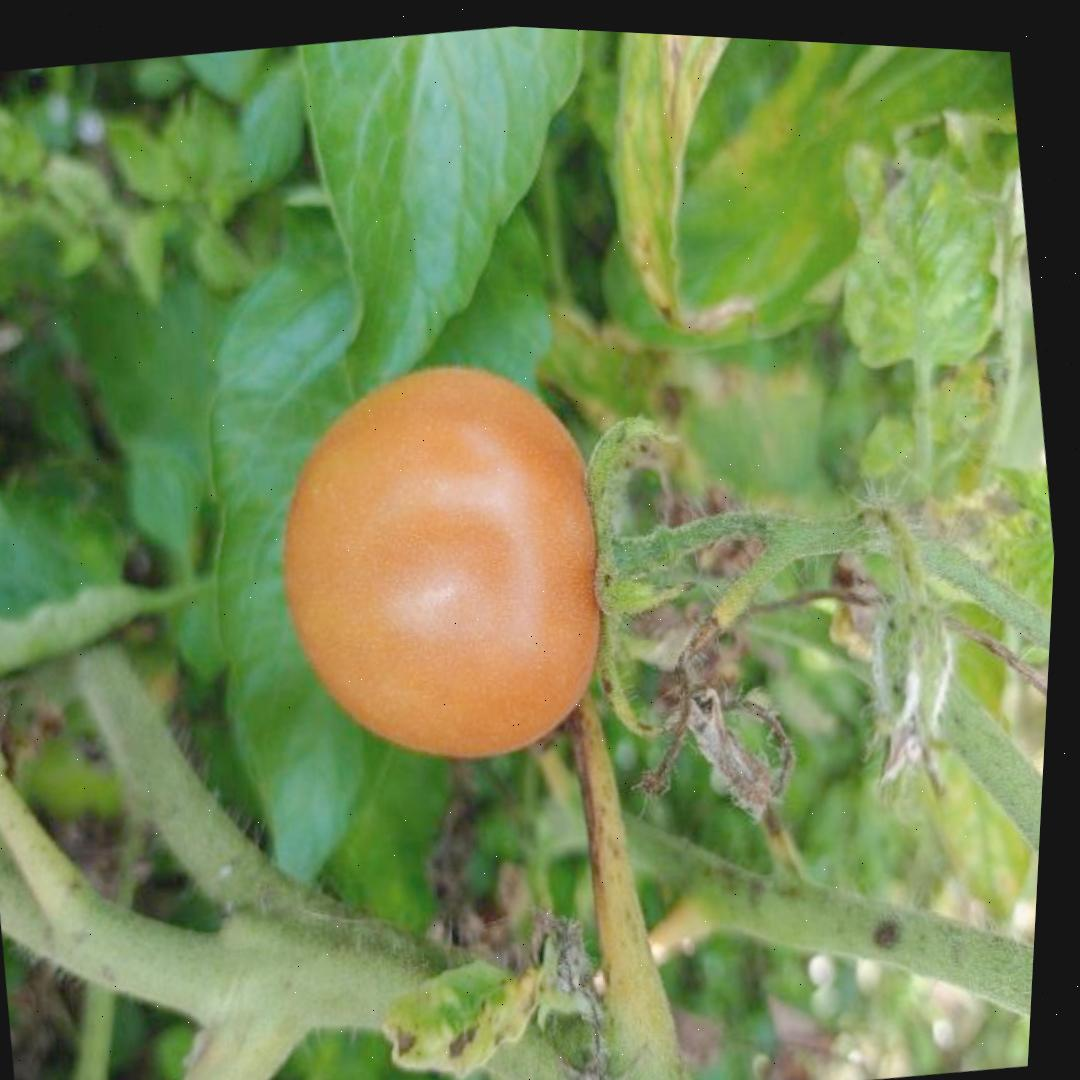setengah_matang: (240, 333, 643, 795)
